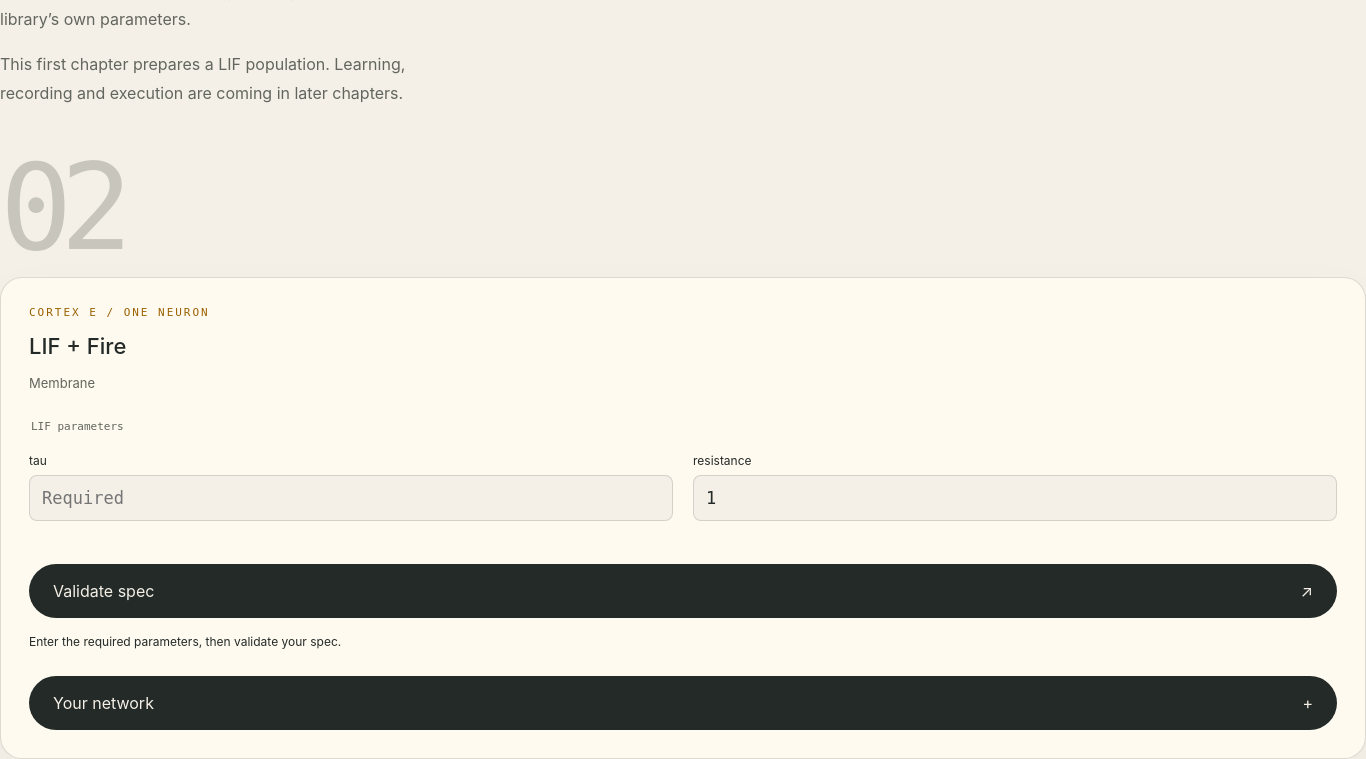
loads LIF from the server, sends native spec, and displays server validation
(page scrolled)
Step 1. Type "0" into the number field labelled "tau" → (351, 498), box [29,475,673,521]
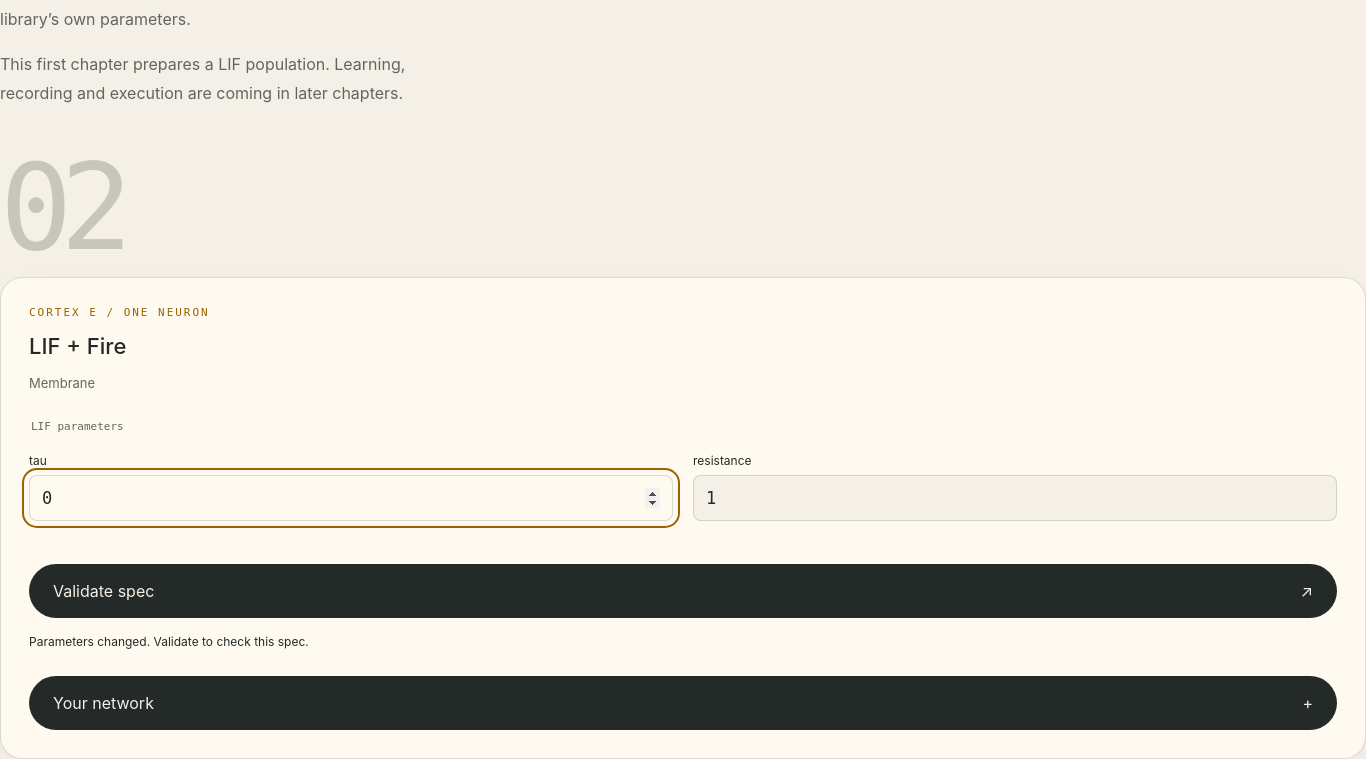
Expected: the number field labelled "resistance" holds "1", [693,475,1337,521]
Step 2. Click the button "Validate spec ↗" → (104, 591), box [29,564,1337,618]
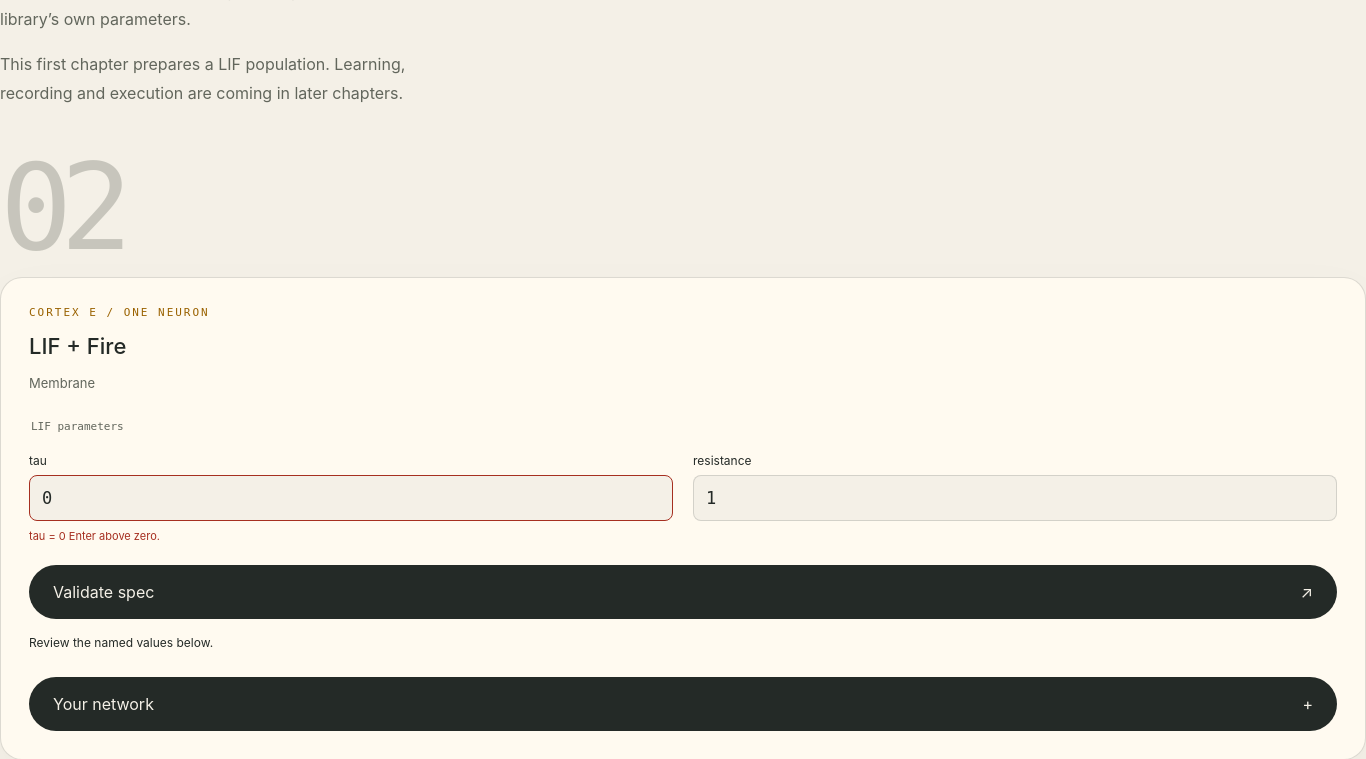
Expected: the text "tau = 0 Enter above zero." is shown, [29,529,160,543]
